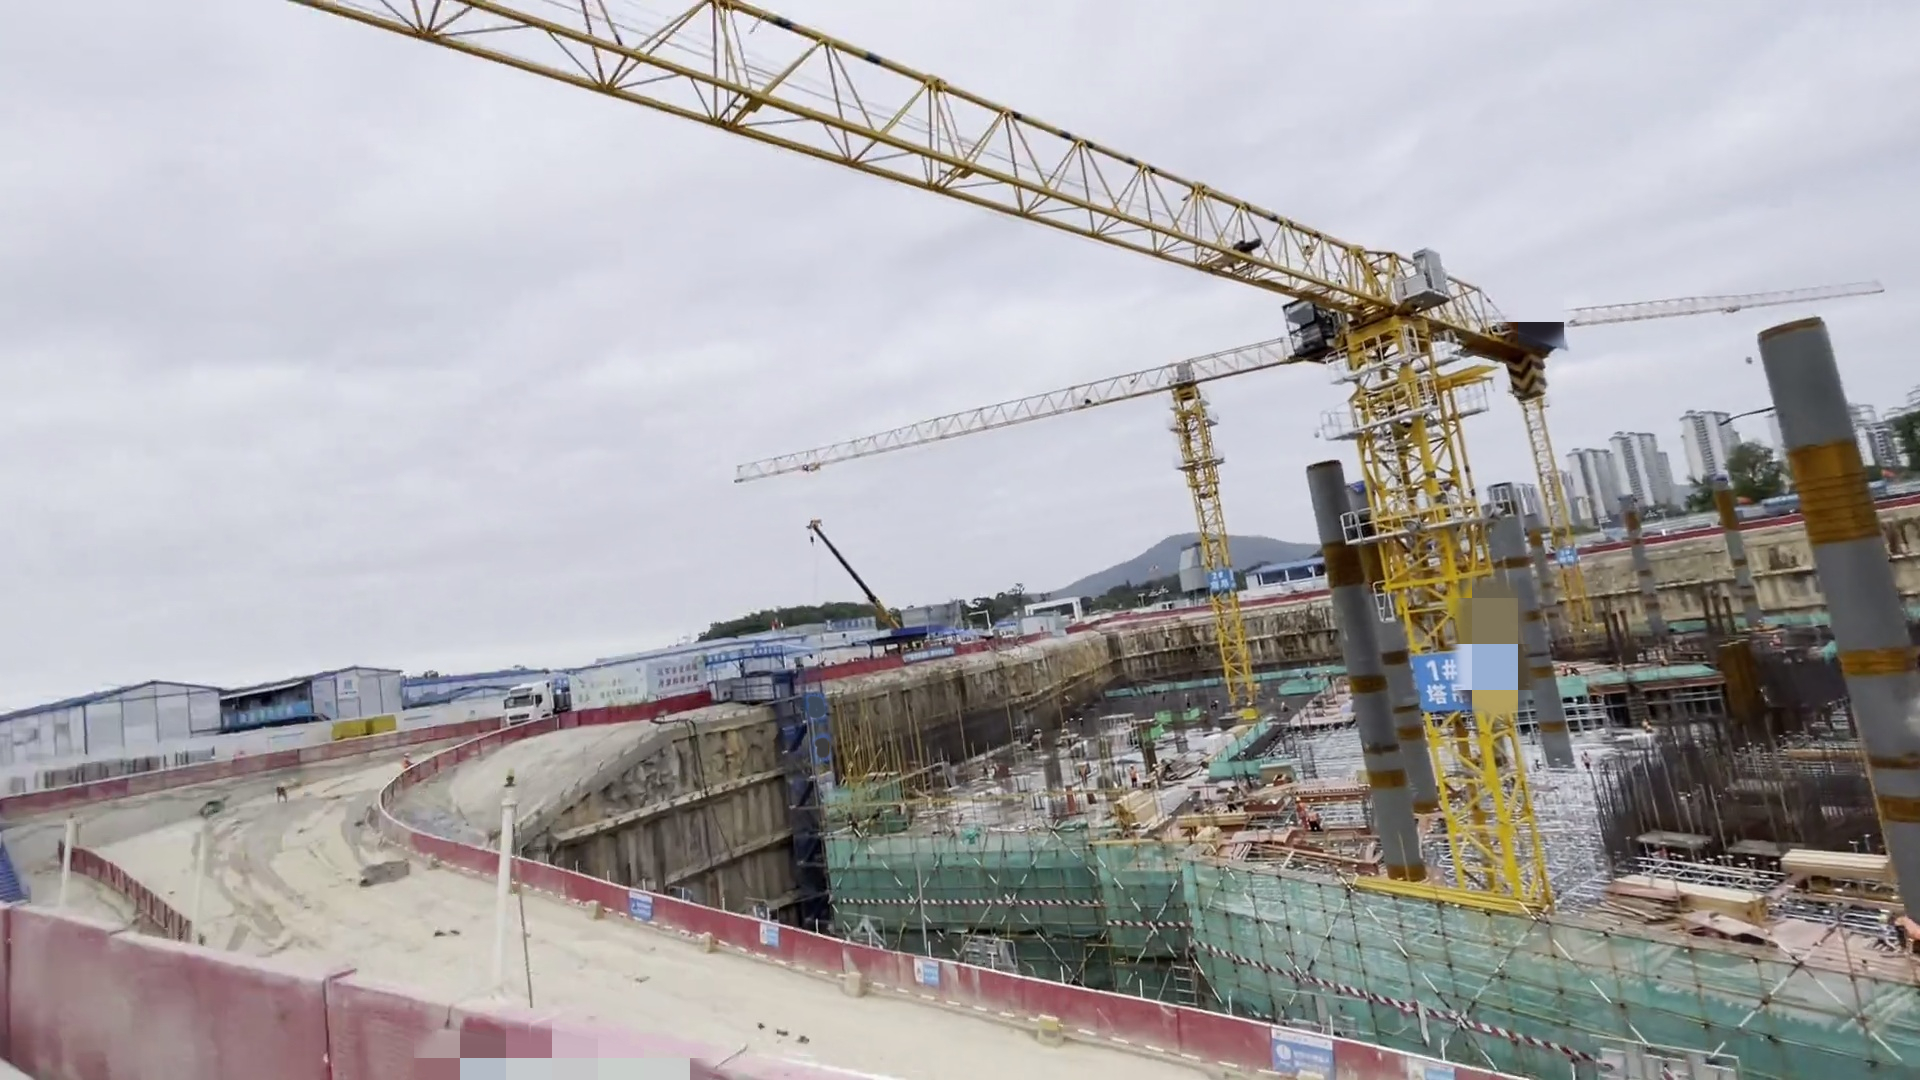fence: (255, 800, 1377, 1080), (24, 729, 498, 800)
slogan: (585, 645, 709, 711), (186, 682, 344, 728), (1267, 1023, 1341, 1075), (630, 885, 673, 924), (899, 961, 945, 993), (1406, 1048, 1443, 1080), (758, 920, 785, 956)
